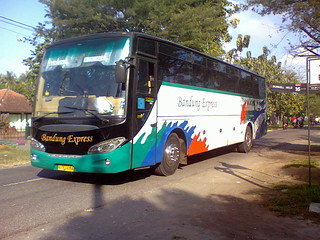bus: (28, 31, 267, 177)
